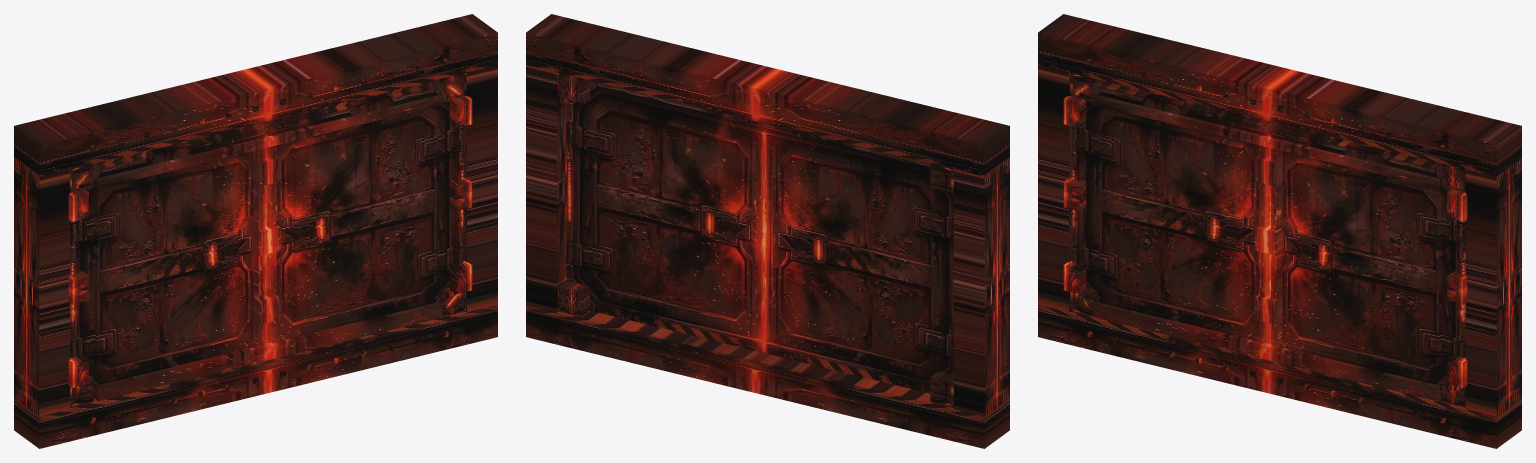
File: hangar_kapi_kara.glb
The picture shows the model from 3 angles, left to right: view 1: azimuth 30°, elevation 25°; view 2: azimuth 150°, elevation 25°; view 3: azimuth 330°, elevation 25°; orthographic projection.
Visible parts, largest first — view 1: FRAME, DOOR_R, DOOR_L; view 2: FRAME, DOOR_R, DOOR_L; view 3: FRAME, DOOR_L, DOOR_R.
Part boxes in pixels (box(x1,y1,x2,y2)): FRAME: box(14, 14, 497, 448); DOOR_R: box(264, 79, 463, 343); DOOR_L: box(70, 122, 270, 398); FRAME: box(526, 14, 1009, 448); DOOR_R: box(566, 80, 764, 352); DOOR_L: box(765, 123, 953, 393); FRAME: box(1038, 14, 1521, 448); DOOR_L: box(1072, 79, 1271, 343); DOOR_R: box(1265, 122, 1465, 398).
Size of the model in its own units: 10.4 by 6.6 by 1.14.
Materials: 1 (1 with a texture image).
